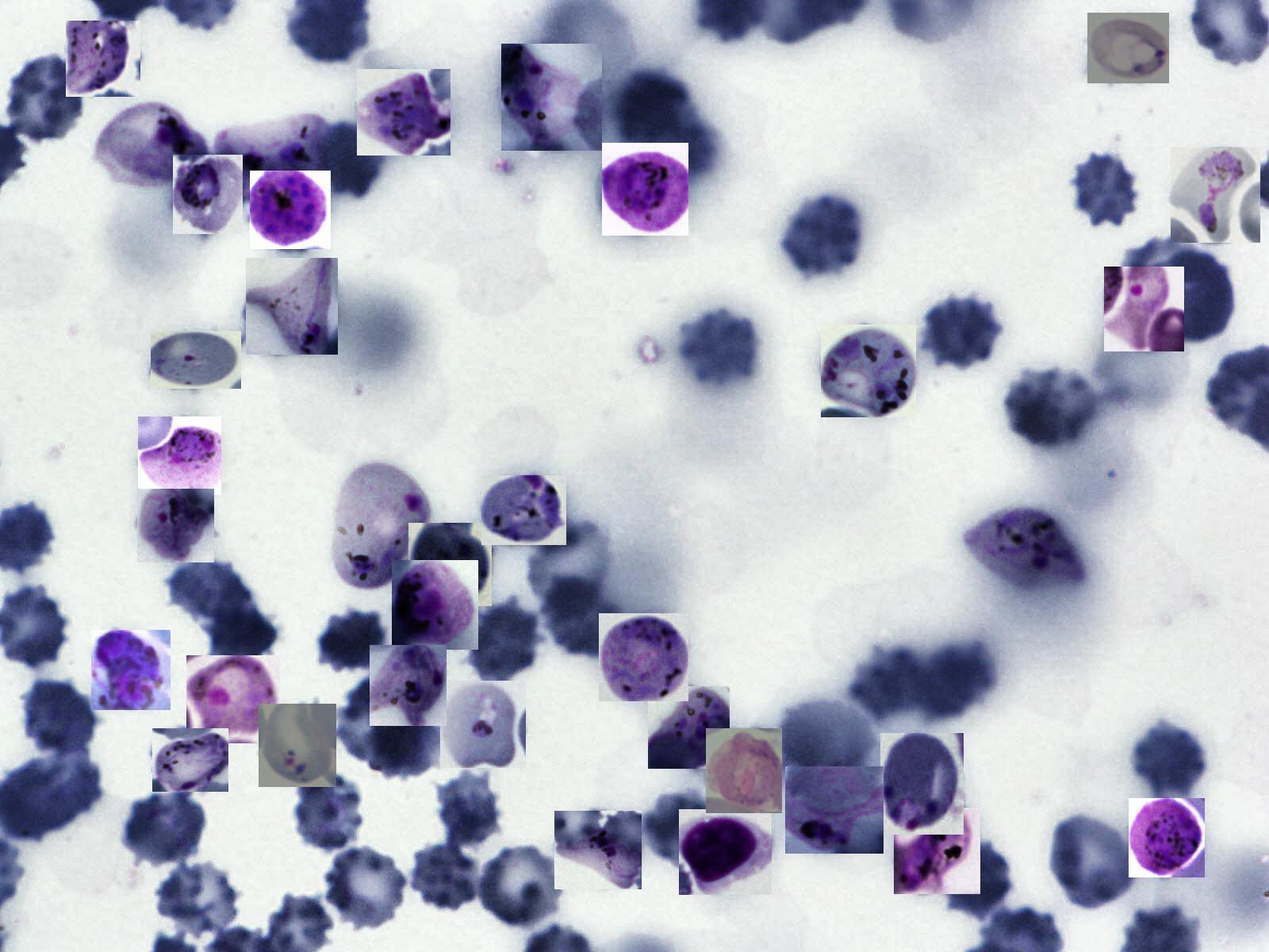Infected: (332, 463, 430, 590), (501, 44, 602, 151), (214, 112, 329, 198), (964, 508, 1086, 585), (94, 104, 205, 188), (246, 258, 338, 355), (821, 324, 916, 417), (785, 767, 884, 854), (880, 733, 964, 835), (1171, 148, 1260, 243), (186, 655, 280, 743), (357, 69, 450, 155), (679, 809, 772, 895), (602, 143, 688, 236), (599, 613, 688, 701), (392, 560, 478, 650), (440, 681, 526, 768), (894, 808, 980, 894), (408, 523, 492, 606), (554, 811, 642, 889), (648, 686, 730, 769), (1104, 267, 1184, 351), (138, 416, 221, 495), (706, 728, 782, 813), (91, 630, 171, 710), (259, 704, 336, 787), (250, 171, 331, 249), (370, 645, 447, 726), (1129, 798, 1205, 877), (481, 475, 566, 545), (1087, 13, 1169, 83), (137, 489, 214, 563), (66, 21, 140, 97), (173, 155, 243, 234), (151, 331, 241, 389), (152, 728, 228, 792)
Uninfected: (999, 366, 1097, 450), (1050, 815, 1137, 909), (777, 701, 876, 782), (1148, 247, 1233, 341), (642, 791, 734, 873), (2, 56, 86, 144), (336, 678, 421, 763), (539, 574, 621, 660), (529, 520, 609, 608), (913, 639, 999, 720), (288, 770, 369, 855), (477, 845, 562, 925), (121, 790, 208, 866), (462, 603, 543, 684), (324, 846, 404, 928), (784, 194, 861, 277), (17, 677, 98, 754), (921, 294, 1003, 370), (158, 861, 238, 937), (432, 770, 506, 852), (852, 644, 931, 720), (165, 554, 255, 620), (681, 309, 757, 387), (940, 840, 1012, 919), (612, 70, 689, 143), (366, 708, 444, 779), (1132, 721, 1204, 795), (316, 121, 383, 198), (202, 604, 281, 667), (409, 843, 481, 910), (1072, 153, 1138, 226), (320, 604, 385, 673)
